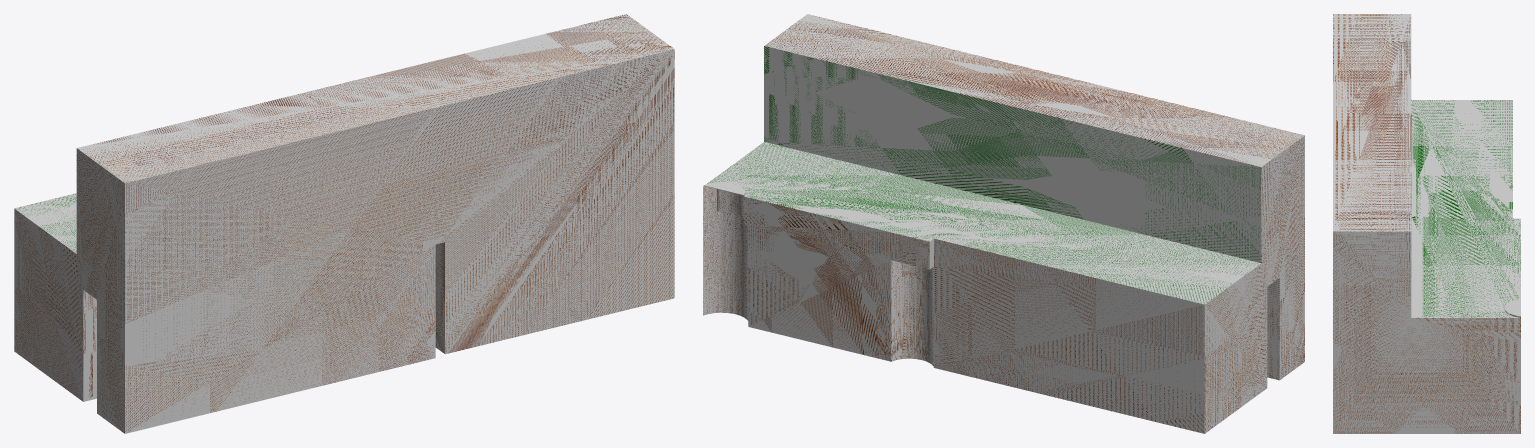
3 views of the same model, side by side, from view 1: azimuth 30°, elevation 25°; view 2: azimuth 150°, elevation 25°; view 3: azimuth 270°, elevation 25° (orthographic). The views are drawn at different scales.
Parts seen in each view (by area): view 1: mesh1_mesh1-geometry; view 2: mesh1_mesh1-geometry; view 3: mesh1_mesh1-geometry.
Boxes of the visible parts, x1,y1,x2,y2 form: mesh1_mesh1-geometry: (14,14,674,433); mesh1_mesh1-geometry: (703,14,1304,433); mesh1_mesh1-geometry: (1333,14,1520,433).
Bounding box in the file's own units: 0.8696 × 0.3787 × 0.3168.
